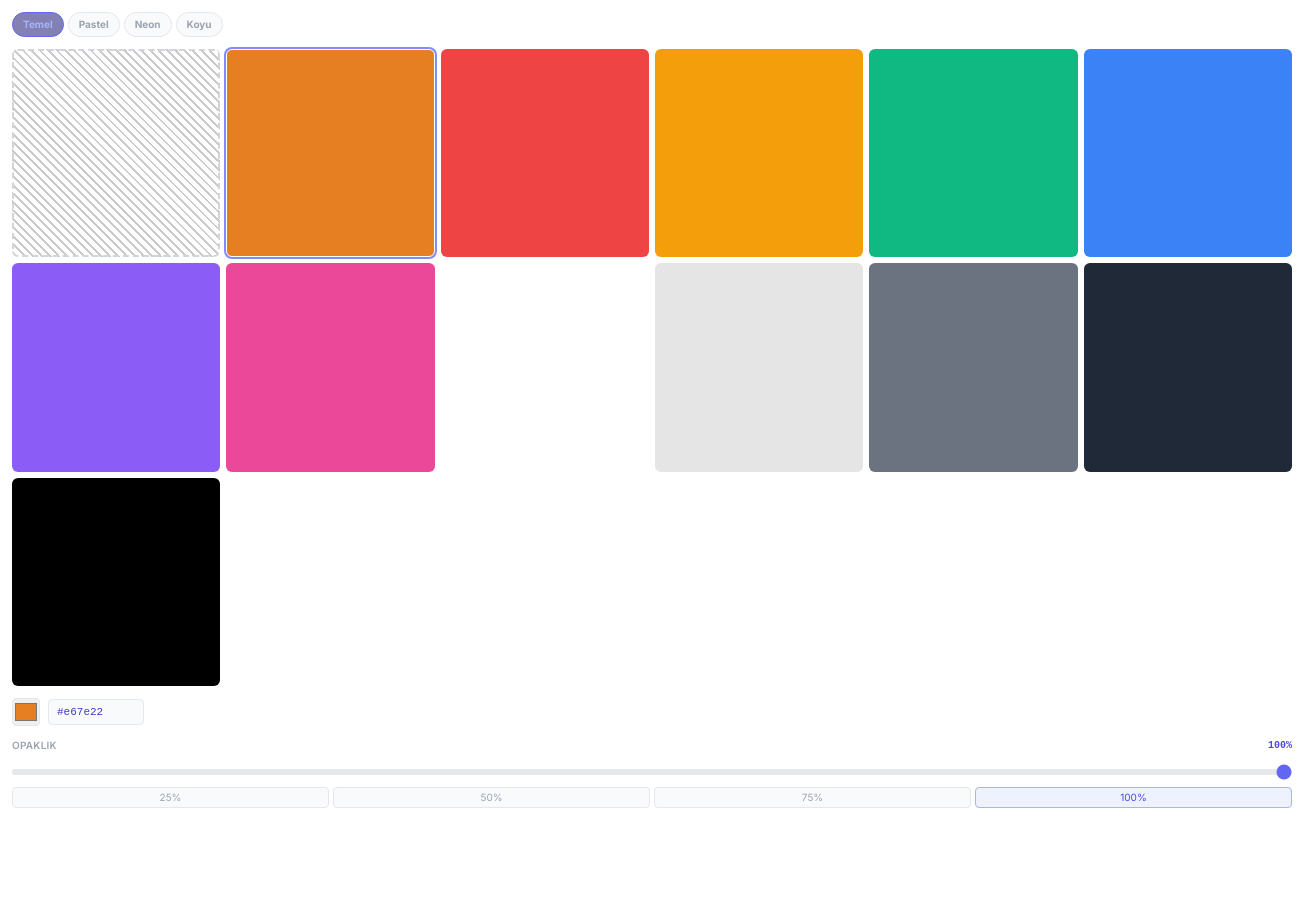
ColorPicker › switches palette tab
The width and height of the screenshot is (1304, 912).
What coordinates should you click on to do the following:
click the button "Neon"
I would click on:
 (148, 24)
Its box is 124,12 -> 172,37.
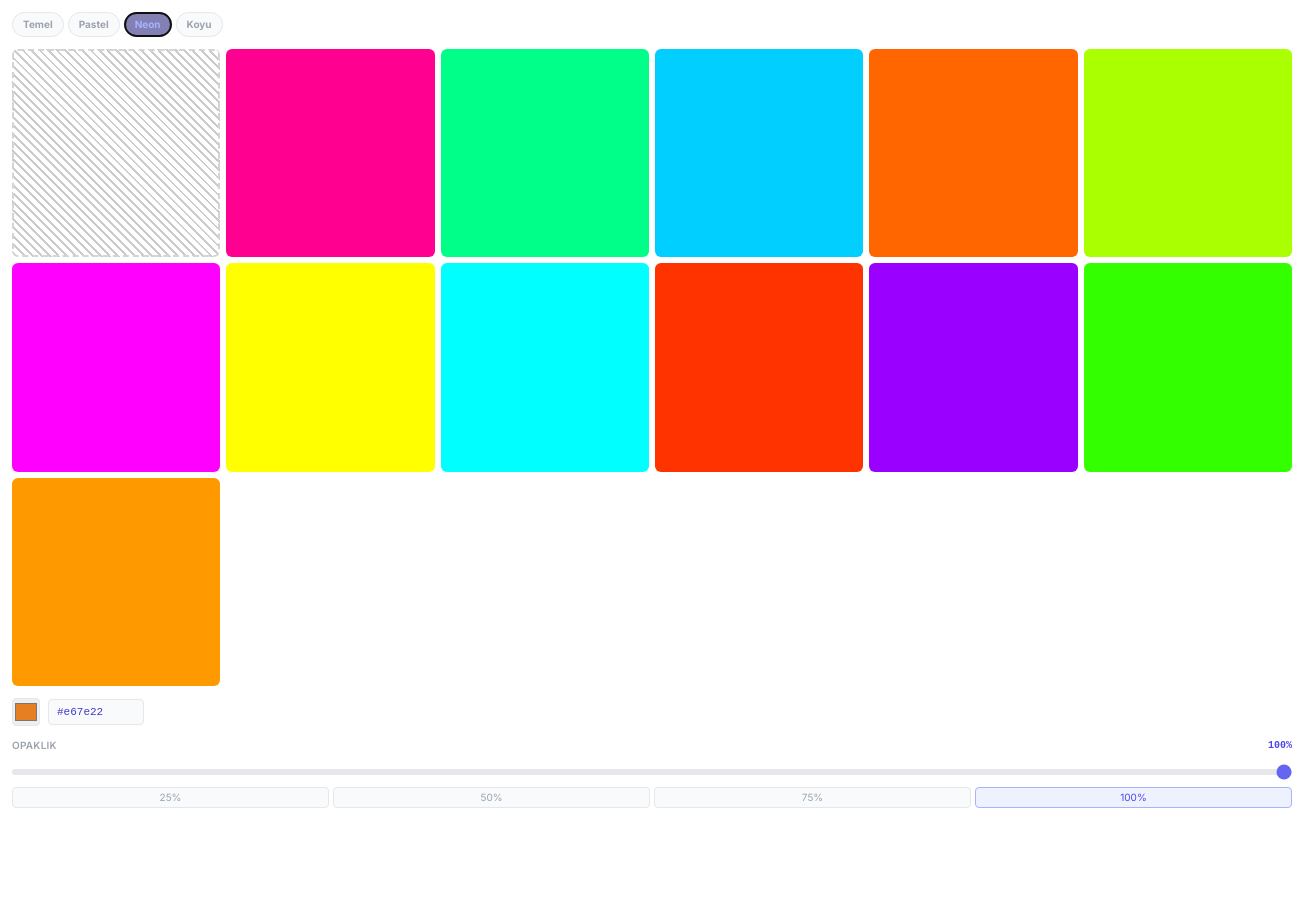
Expected: the button titled "#ff0090" is shown, 226,49 -> 435,257
